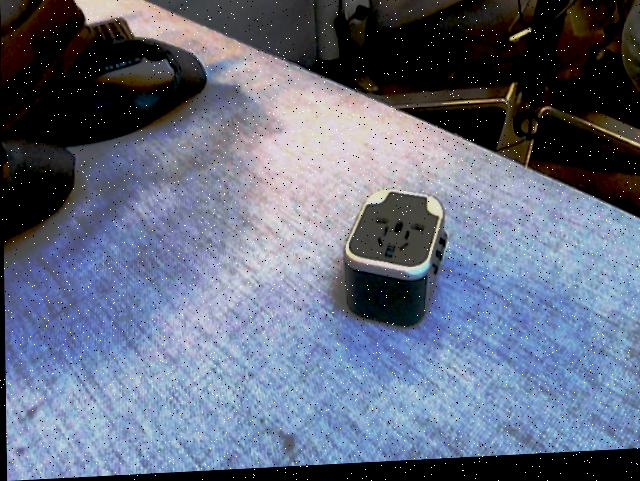adapter: (340, 189, 447, 333)
